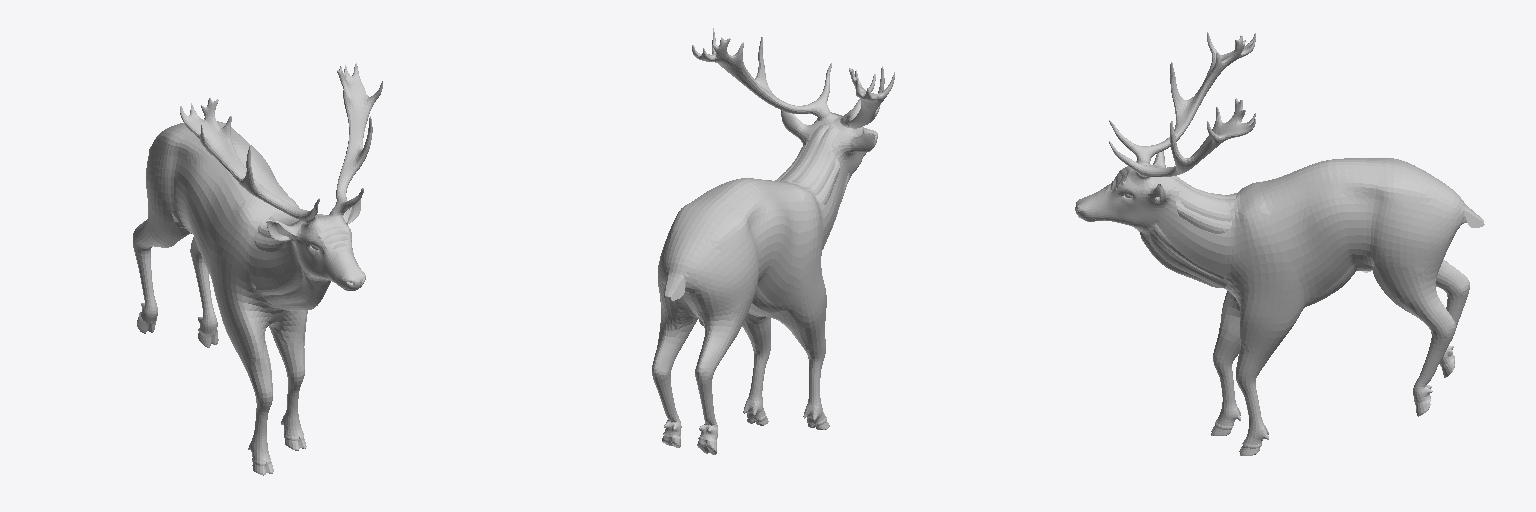
Rendered from frame_0021_uv.obj.
3 renders of one model, left to right at view 1: azimuth 30°, elevation 25°; view 2: azimuth 150°, elevation 25°; view 3: azimuth 270°, elevation 25°, orthographic.
Parts seen in each view (by area): view 1: pMesh1; view 2: pMesh1; view 3: pMesh1.
Part boxes in pixels (bbox=[...]): pMesh1: bbox=[133, 63, 382, 475]; pMesh1: bbox=[652, 28, 894, 454]; pMesh1: bbox=[1075, 32, 1484, 455].
Size of the model in its own units: 1.05 by 2.08 by 2.04.